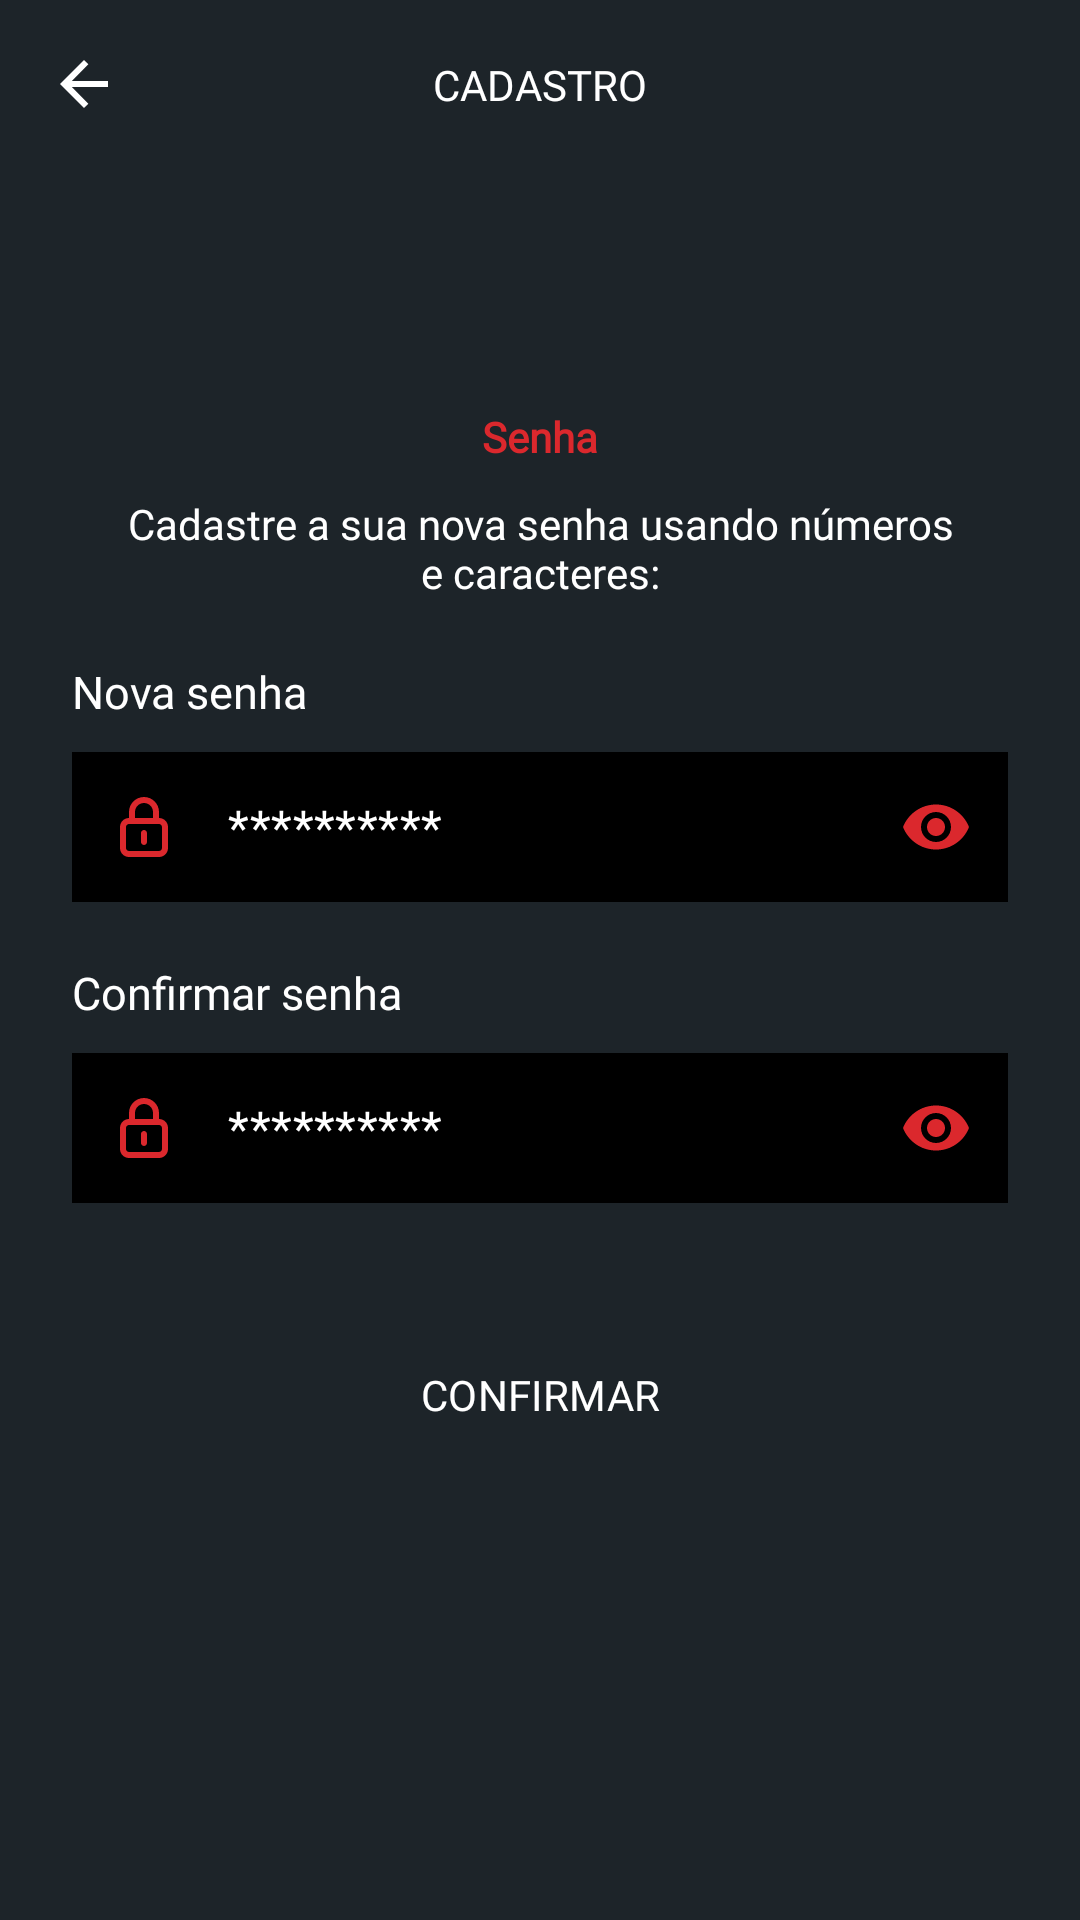

Locate icon controls on the screen. Image size 1080*1920, boxes as (x1, y1, x2, y2).
left arrow: (60, 60, 108, 108)
